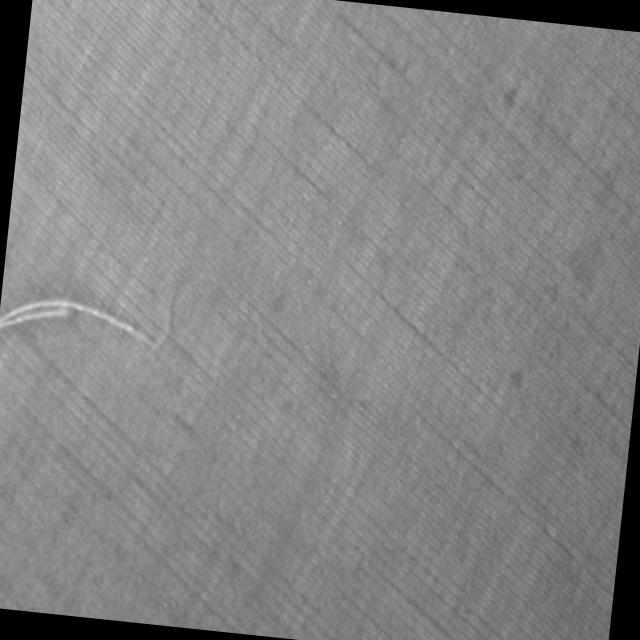Thread: (0, 265, 178, 356)
